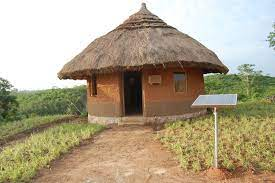Mud House: (56, 4, 228, 132)
